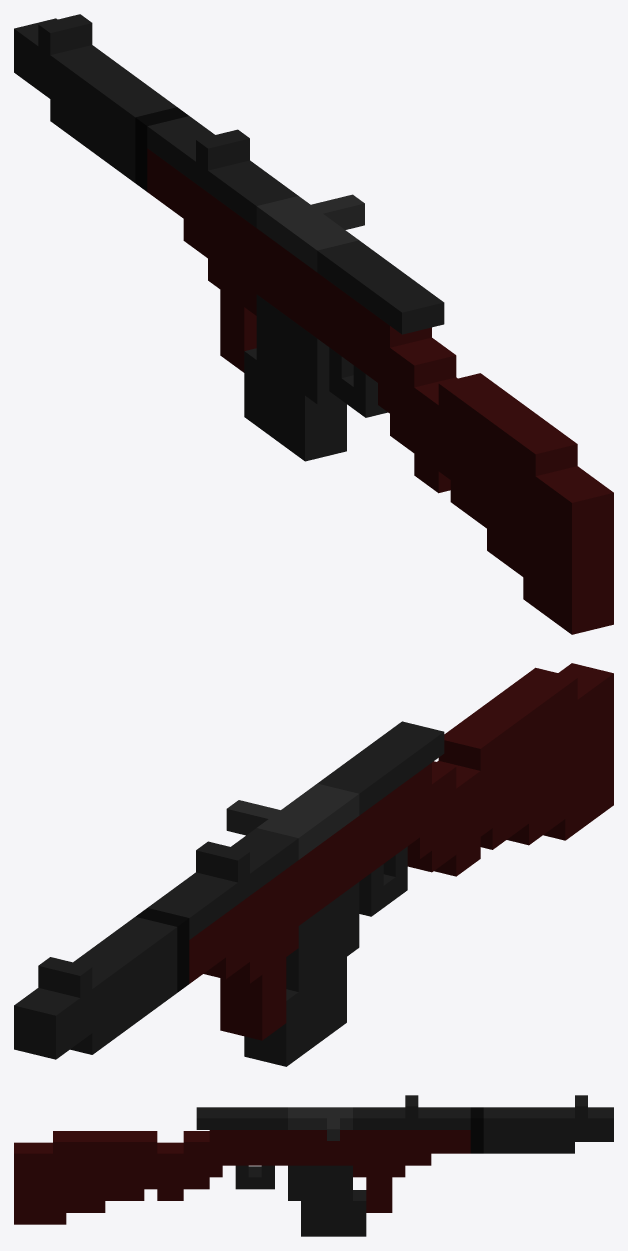
The model's file is fedorov-avtomat.dae.
3 renders of one model, top to bottom at view 1: azimuth 30°, elevation 25°; view 2: azimuth 150°, elevation 25°; view 3: azimuth 270°, elevation 25°, orthographic. The views are drawn at different scales.
Parts seen in each view (by area): view 1: fedorov-avtomat.weapon; view 2: fedorov-avtomat.weapon; view 3: fedorov-avtomat.weapon.
Part boxes in pixels (left/top/right/bottom): fedorov-avtomat.weapon: left=14, top=14, right=613, bottom=634; fedorov-avtomat.weapon: left=14, top=663, right=613, bottom=1066; fedorov-avtomat.weapon: left=14, top=1095, right=613, bottom=1236.
Bounding box in the file's own units: 0.4 × 1.1 × 4.6.
